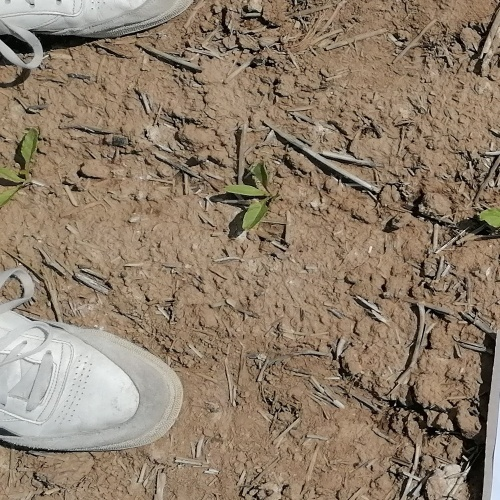beet: (0, 125, 40, 206), (227, 163, 273, 231), (479, 206, 500, 231)
